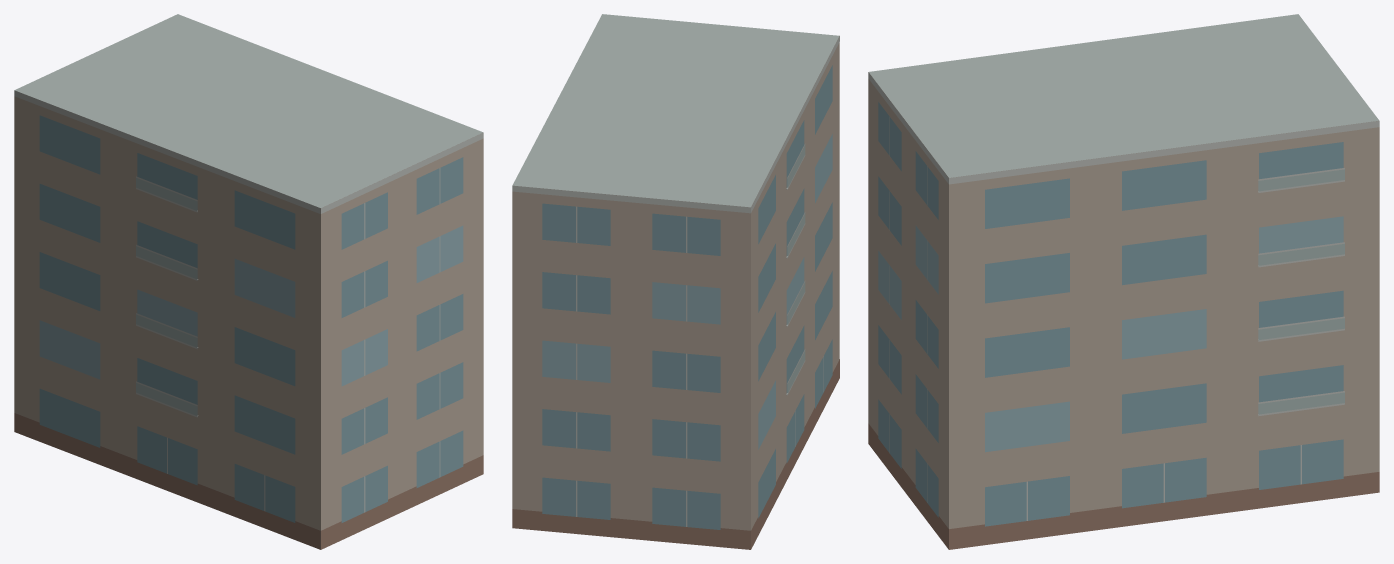
Rendered from survey-upis-33041746.glb.
3 views of the same model, side by side, from view 1: azimuth 30°, elevation 25°; view 2: azimuth 150°, elevation 25°; view 3: azimuth 270°, elevation 25° (orthographic). The views are drawn at different scales.
Parts seen in each view (by area): view 1: survey-upis-33041746.tmp; view 2: survey-upis-33041746.tmp; view 3: survey-upis-33041746.tmp.
Boxes of the visible parts, x1,y1,x2,y2 form: survey-upis-33041746.tmp: (14, 14, 483, 549); survey-upis-33041746.tmp: (512, 14, 839, 549); survey-upis-33041746.tmp: (868, 14, 1379, 549).
Bounding box in the file's own units: 13.25 × 14 × 17.45.
